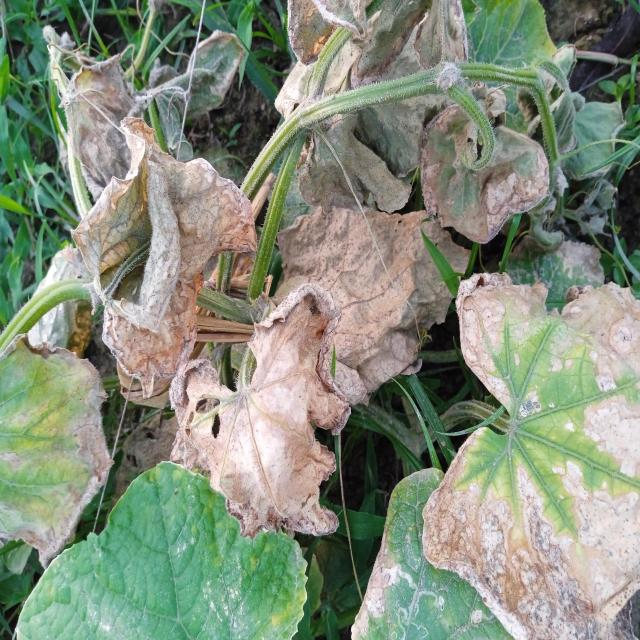cucumber_bacterial: (415, 270, 640, 640), (172, 284, 373, 544), (15, 186, 259, 335), (50, 24, 254, 154)
